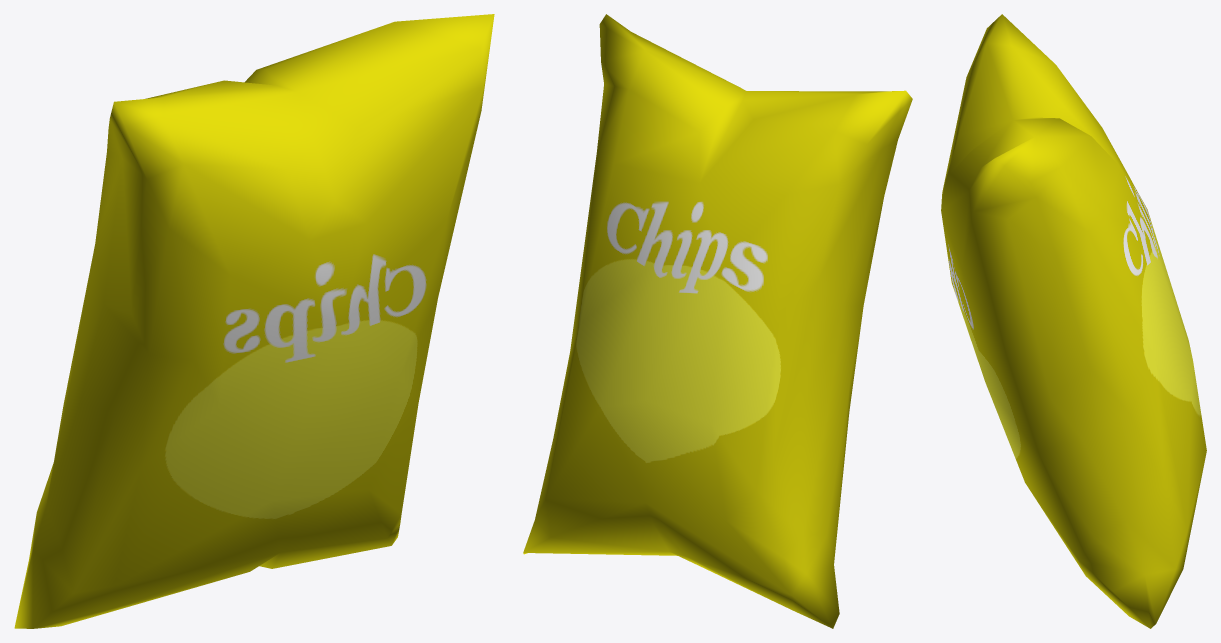
Rendered from YellowChips.fbx.
The picture shows the model from 3 angles, left to right: view 1: azimuth 30°, elevation 25°; view 2: azimuth 150°, elevation 25°; view 3: azimuth 270°, elevation 25°; orthographic projection. The views are drawn at different scales.
Parts seen in each view (by area): view 1: YellowChips; view 2: YellowChips; view 3: YellowChips.
Boxes of the visible parts, x1=… form: YellowChips: x1=14, y1=14, x2=494, y2=628; YellowChips: x1=523, y1=14, x2=912, y2=628; YellowChips: x1=941, y1=14, x2=1206, y2=628.
Size of the model in its own units: 23.73 by 35.33 by 18.12.
1 material, 1 textured.
